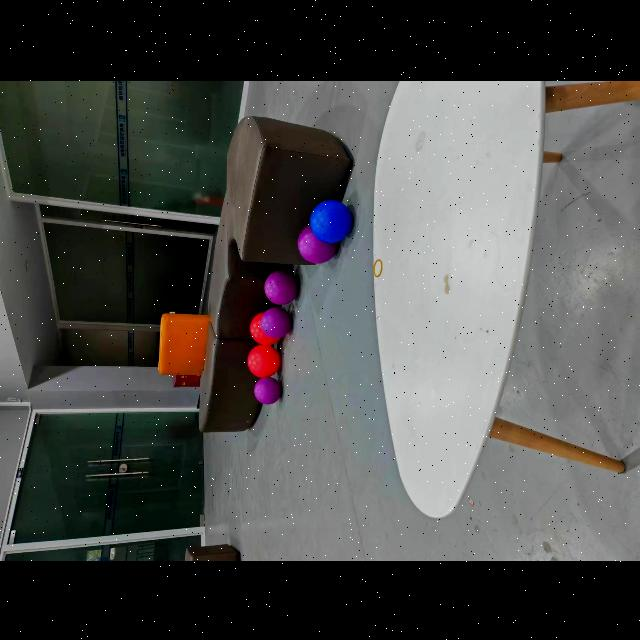B: (310, 199, 352, 242)
P: (298, 225, 337, 262), (264, 270, 299, 304), (260, 306, 291, 338), (254, 376, 281, 404)
R: (248, 344, 281, 376), (250, 312, 278, 345)
